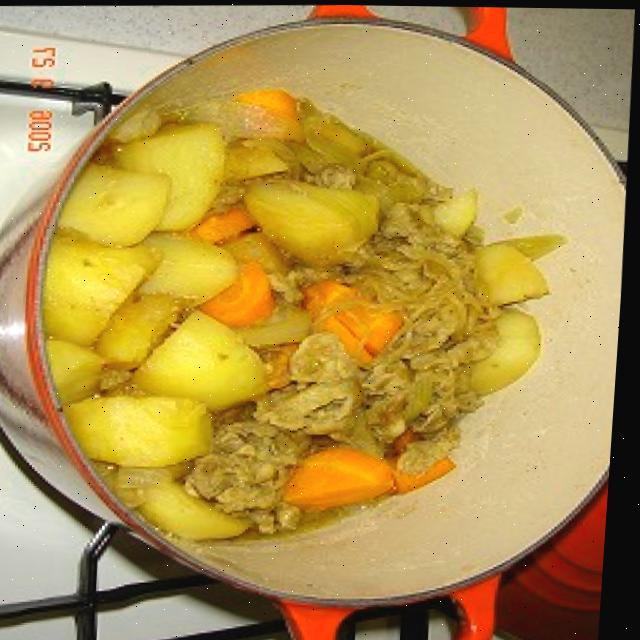牛肉菜式: (0, 13, 639, 608)
